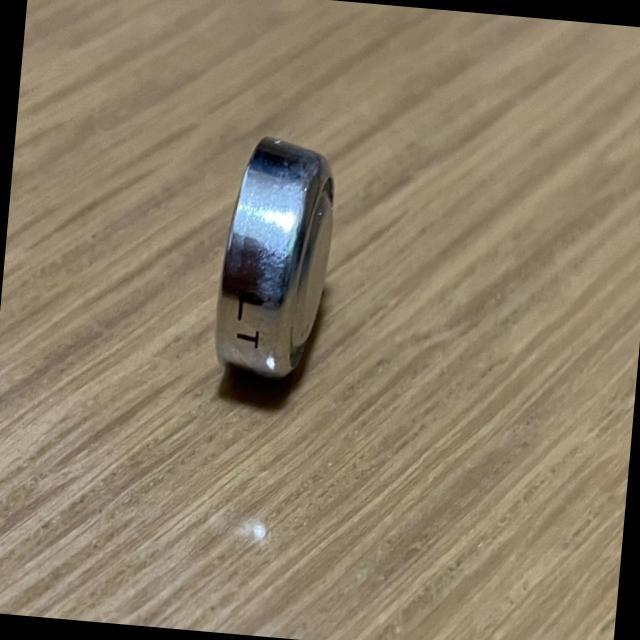COIN: (208, 133, 341, 390)
